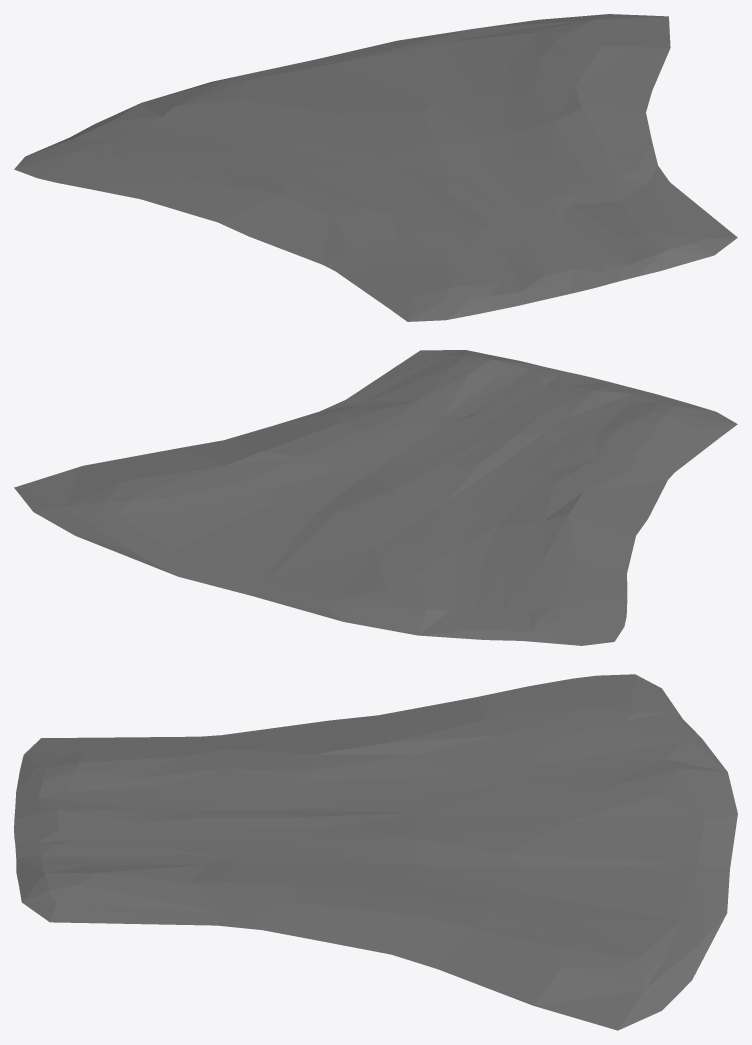
Rendered from SM_Env_Road_Gravel_End_01.fbx.
The picture shows the model from 3 angles, top to bottom: view 1: azimuth 30°, elevation 25°; view 2: azimuth 150°, elevation 25°; view 3: azimuth 270°, elevation 25°; orthographic projection. The views are drawn at different scales.
Visible parts, largest first — view 1: SM_Env_Road_Gravel_End_01; view 2: SM_Env_Road_Gravel_End_01; view 3: SM_Env_Road_Gravel_End_01.
Part boxes in pixels (left/top/right/bottom): SM_Env_Road_Gravel_End_01: left=14, top=14, right=737, bottom=321; SM_Env_Road_Gravel_End_01: left=14, top=350, right=737, bottom=645; SM_Env_Road_Gravel_End_01: left=14, top=674, right=737, bottom=1030.
Bounding box in the file's own units: 17.54 × 0.5626 × 15.02.
Materials: 1 (1 with a texture image).
